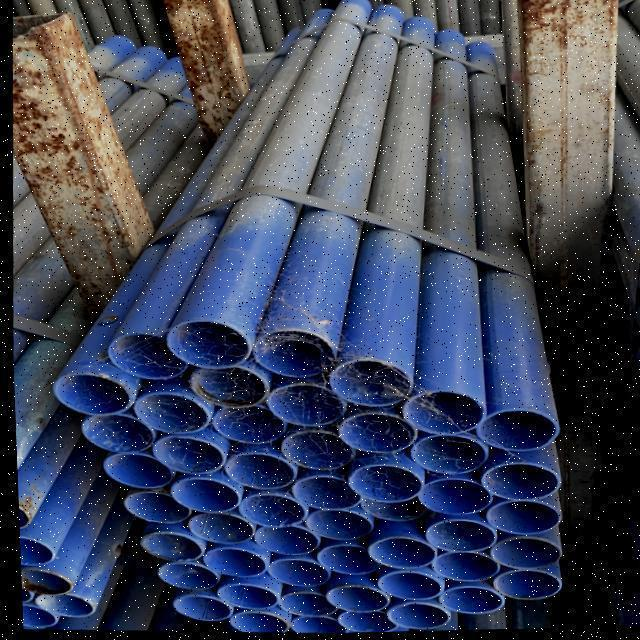pipe: (245, 331, 331, 382), (161, 321, 245, 370), (102, 332, 185, 380), (259, 377, 340, 426), (269, 429, 351, 476), (324, 362, 407, 408), (95, 450, 184, 491), (73, 411, 154, 456), (183, 364, 263, 409), (200, 404, 290, 444), (469, 411, 554, 453), (128, 387, 205, 433), (216, 447, 288, 496), (397, 393, 477, 437), (47, 371, 125, 415), (407, 475, 486, 518), (472, 464, 556, 504), (113, 486, 195, 526), (403, 437, 480, 479), (340, 462, 416, 504), (330, 413, 407, 454), (142, 436, 220, 475), (473, 501, 557, 537), (160, 473, 233, 514), (281, 469, 355, 509), (415, 520, 494, 555), (230, 491, 302, 529), (303, 544, 385, 577), (146, 559, 216, 596), (413, 555, 499, 585), (293, 508, 366, 543), (174, 512, 247, 547), (360, 537, 429, 571), (129, 527, 196, 562), (239, 528, 318, 557), (259, 556, 324, 591), (316, 584, 389, 614), (487, 542, 553, 575), (194, 545, 260, 578), (484, 571, 554, 602), (430, 586, 495, 615), (206, 581, 271, 610), (371, 571, 433, 601), (269, 589, 331, 619), (351, 499, 426, 523), (163, 594, 224, 623), (217, 605, 278, 634), (379, 603, 442, 629), (27, 592, 89, 616), (16, 565, 67, 594), (279, 612, 340, 634), (330, 613, 389, 634), (16, 538, 51, 563), (18, 605, 51, 627)
